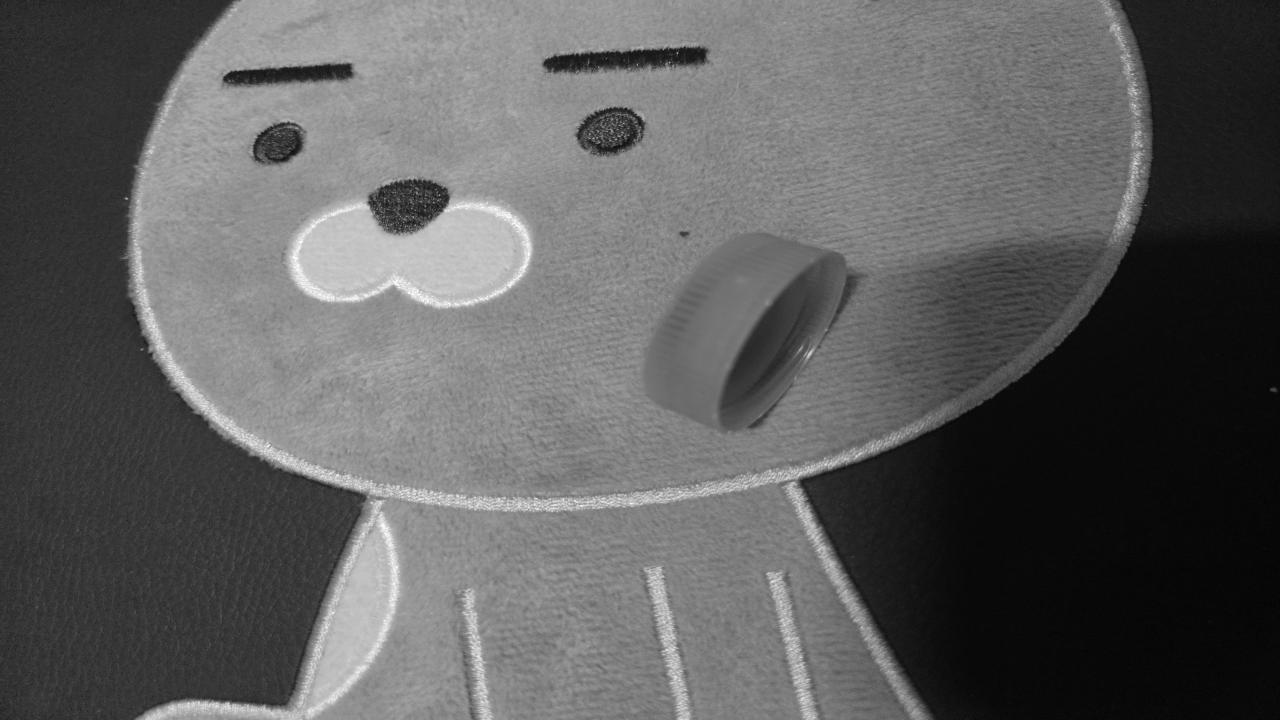bottle_cap: (648, 237, 848, 428)
